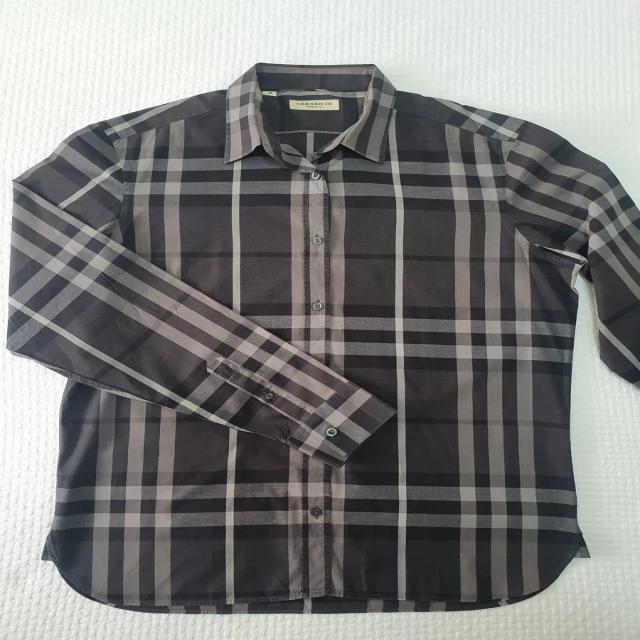long sleeve shirt: (8, 60, 640, 618)
